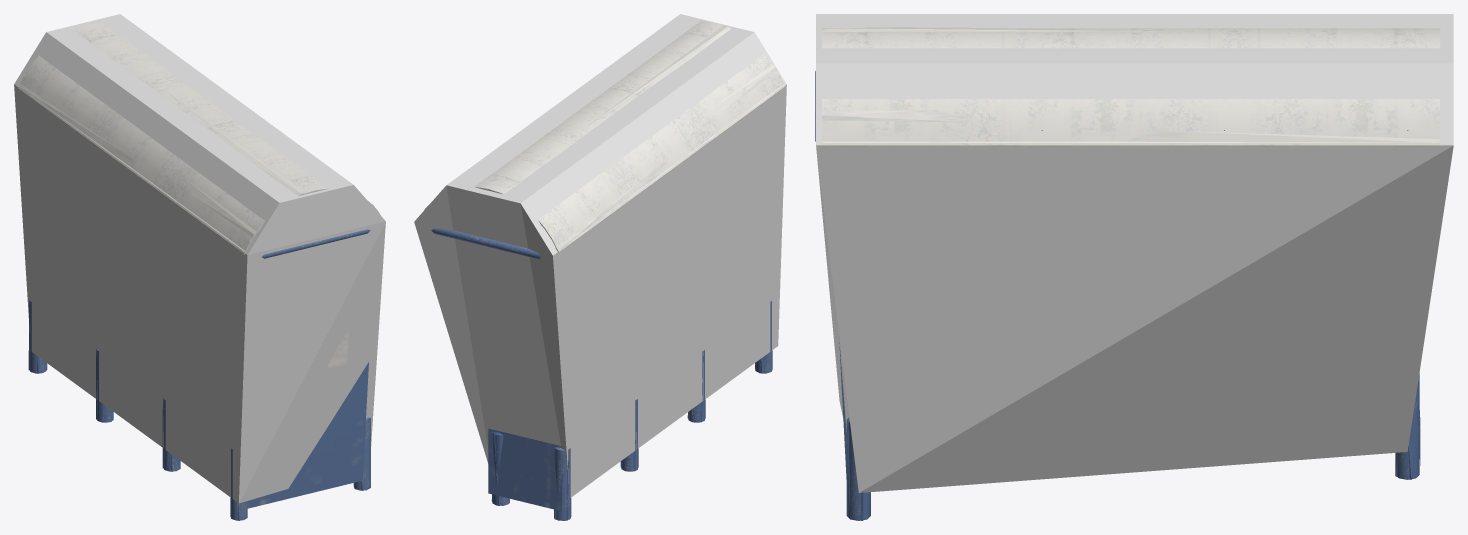
The model's file is busstop_wca.dae.
3 renders of one model, left to right at view 1: azimuth 30°, elevation 25°; view 2: azimuth 150°, elevation 25°; view 3: azimuth 270°, elevation 25°, orthographic. The views are drawn at different scales.
Parts seen in each view (by area): view 1: Colmesh-1, busstop_wca_a200, busstop_wca_a050, busstop_wca_a100; view 2: Colmesh-1, busstop_wca_a200, busstop_wca_a050, busstop_wca_a100; view 3: Colmesh-1, busstop_wca_a200, busstop_wca_a100, busstop_wca_a050.
Part boxes in pixels (x1,y1,x2,y2): Colmesh-1: (14, 14, 385, 503); busstop_wca_a200: (18, 23, 380, 520); busstop_wca_a050: (31, 95, 368, 510); busstop_wca_a100: (18, 83, 376, 520); Colmesh-1: (414, 14, 786, 497); busstop_wca_a200: (424, 21, 785, 520); busstop_wca_a050: (488, 84, 784, 511); busstop_wca_a100: (491, 25, 776, 520); Colmesh-1: (816, 14, 1453, 492); busstop_wca_a200: (815, 28, 1440, 520); busstop_wca_a100: (822, 27, 1440, 520); busstop_wca_a050: (823, 141, 1435, 479).
Size of the model in its own units: 1.43 by 4.15 by 3.14.
2 materials, 2 textured.
